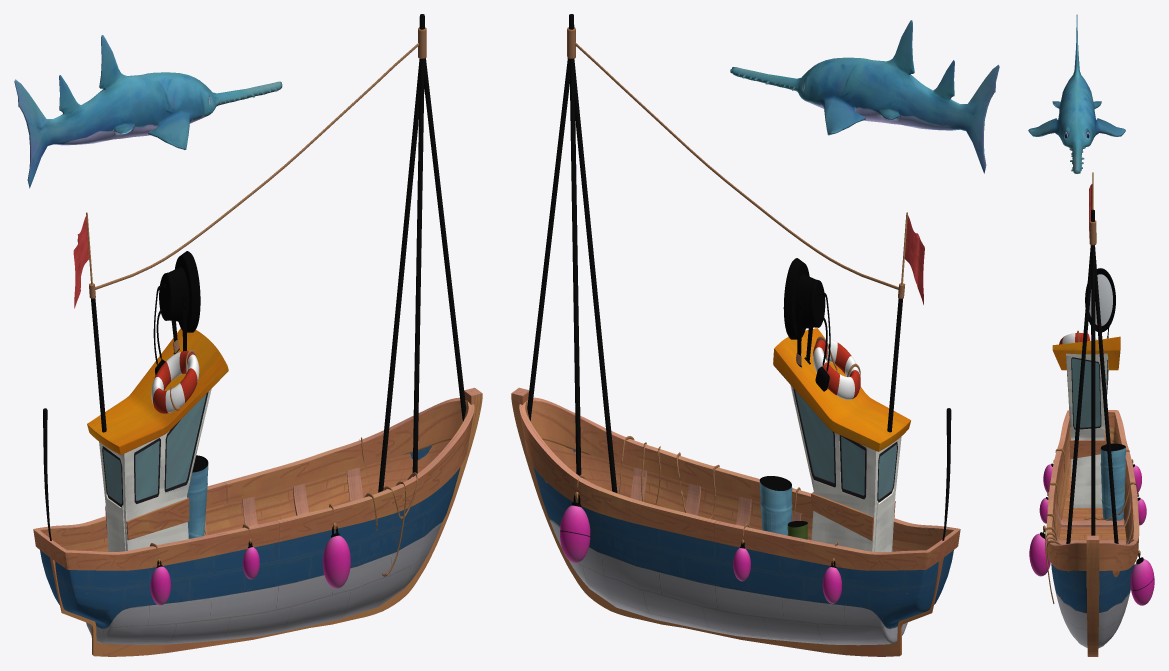
The model's file is Boat with weird swordfish.fbx.
3 views of the same model, side by side, from view 1: azimuth 30°, elevation 25°; view 2: azimuth 150°, elevation 25°; view 3: azimuth 270°, elevation 25° (orthographic). The views are drawn at different scales.
Visible parts, largest first — view 1: node_id70, node_id34; view 2: node_id70, node_id34; view 3: node_id70, node_id34.
Boxes of the visible parts, x1,y1,x2,y2 form: node_id70: [33, 14, 482, 656]; node_id34: [14, 35, 282, 188]; node_id70: [511, 14, 960, 656]; node_id34: [730, 20, 999, 173]; node_id70: [1029, 172, 1154, 656]; node_id34: [1028, 14, 1125, 173].
Size of the model in its own units: 0.2443 by 0.3216 by 0.0713.
Materials: 2 (2 with a texture image).
